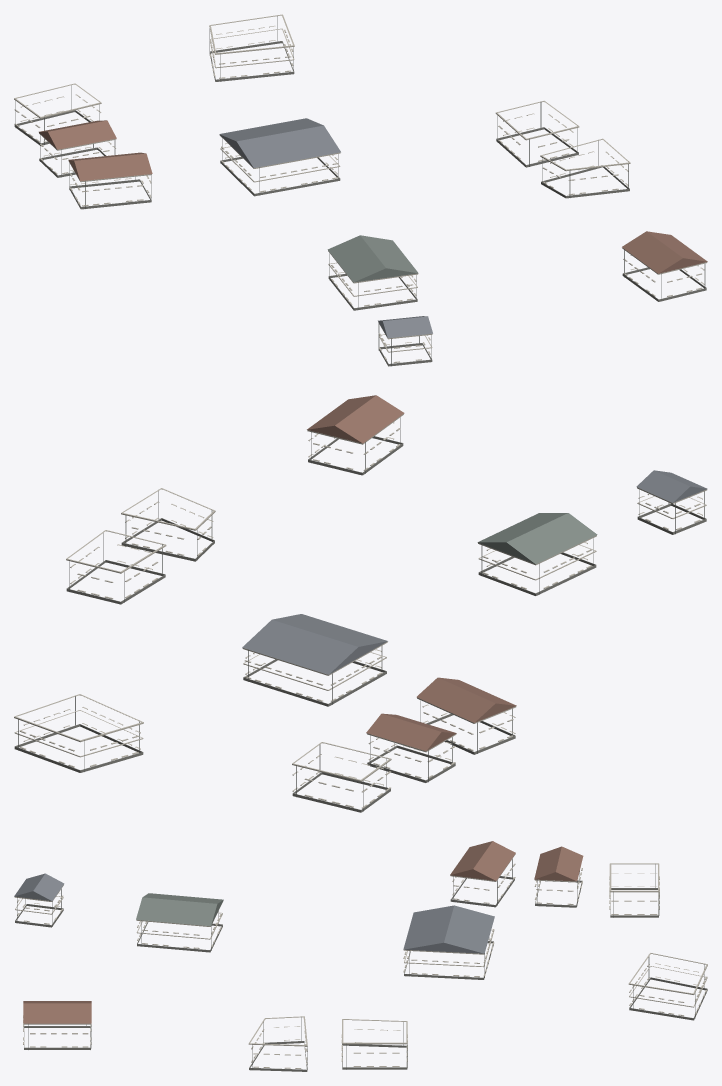
The model's file is district_-3_-1.glb.
The picture shows the model from 3 angles, top to bottom: view 1: azimuth 30°, elevation 25°; view 2: azimuth 150°, elevation 25°; view 3: azimuth 270°, elevation 25°; orthographic projection. The views are drawn at different scales.
Parts seen in each view (by area): view 1: RoofMetal, MasonryTrim, MetalDetails; view 2: RoofMetal, MasonryTrim, MetalDetails; view 3: RoofMetal, MasonryTrim, MetalDetails.
Boxes of the visible parts, bbox=[...] form: RoofMetal: bbox=[39, 118, 707, 338]; MasonryTrim: bbox=[14, 14, 707, 366]; MetalDetails: bbox=[15, 16, 705, 366]; RoofMetal: bbox=[242, 395, 707, 750]; MasonryTrim: bbox=[14, 414, 707, 812]; MetalDetails: bbox=[18, 417, 704, 811]; RoofMetal: bbox=[14, 841, 583, 1023]; MasonryTrim: bbox=[14, 854, 707, 1071]; MetalDetails: bbox=[17, 859, 704, 1069].
Size of the model in its own units: 120 by 10.1 by 178.
